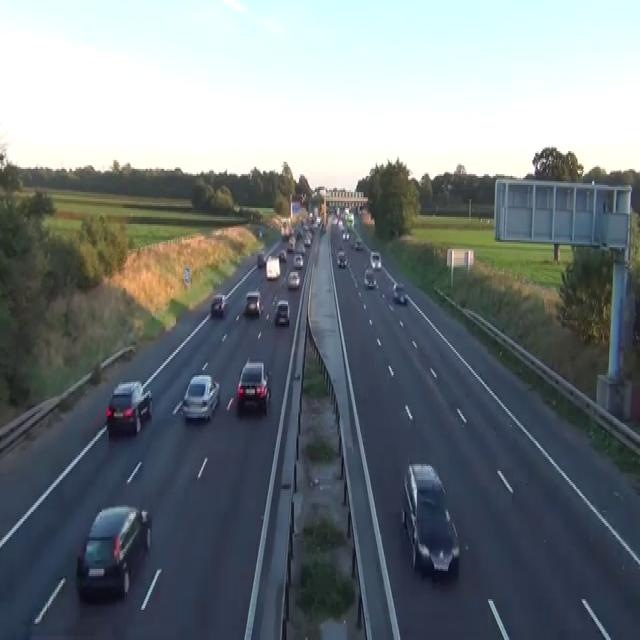Car: (76, 503, 151, 601), (401, 462, 460, 578), (105, 378, 152, 436), (236, 359, 271, 414), (181, 374, 220, 422), (245, 290, 263, 314), (275, 299, 289, 325), (210, 294, 226, 316), (392, 281, 407, 304), (363, 267, 376, 288), (287, 270, 300, 288), (370, 251, 381, 270), (336, 249, 347, 267), (293, 252, 303, 268), (257, 250, 265, 266), (287, 236, 295, 252), (278, 249, 287, 261), (355, 238, 363, 251), (296, 244, 305, 254), (341, 229, 349, 240), (303, 235, 311, 245), (347, 212, 354, 222), (315, 217, 321, 227), (321, 222, 326, 233), (338, 219, 343, 229), (258, 230, 262, 238)
Truck: (265, 254, 280, 279)
